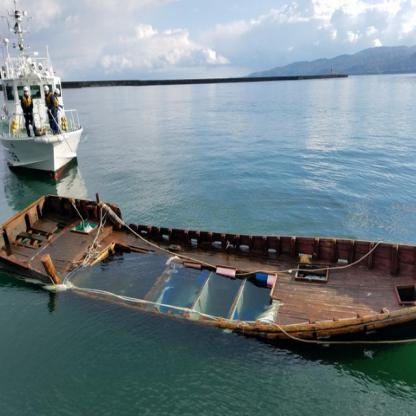fish-b: (0, 186, 415, 356)
